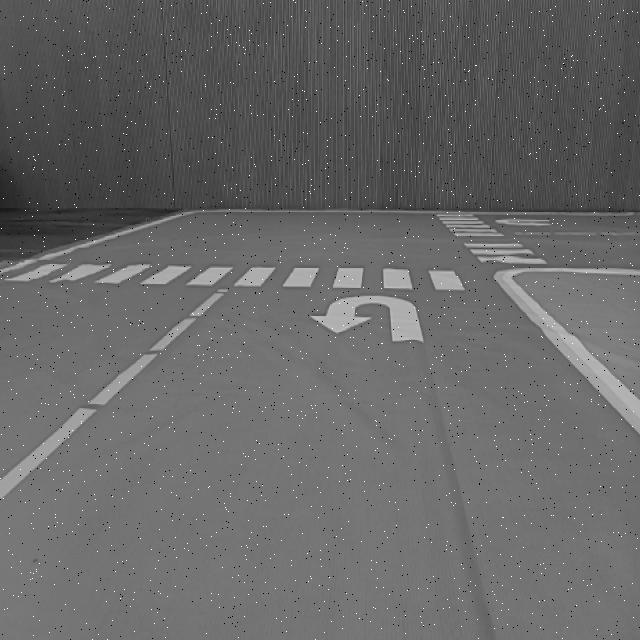left_lane: (0, 287, 229, 504)
right_lane: (494, 278, 640, 434)
